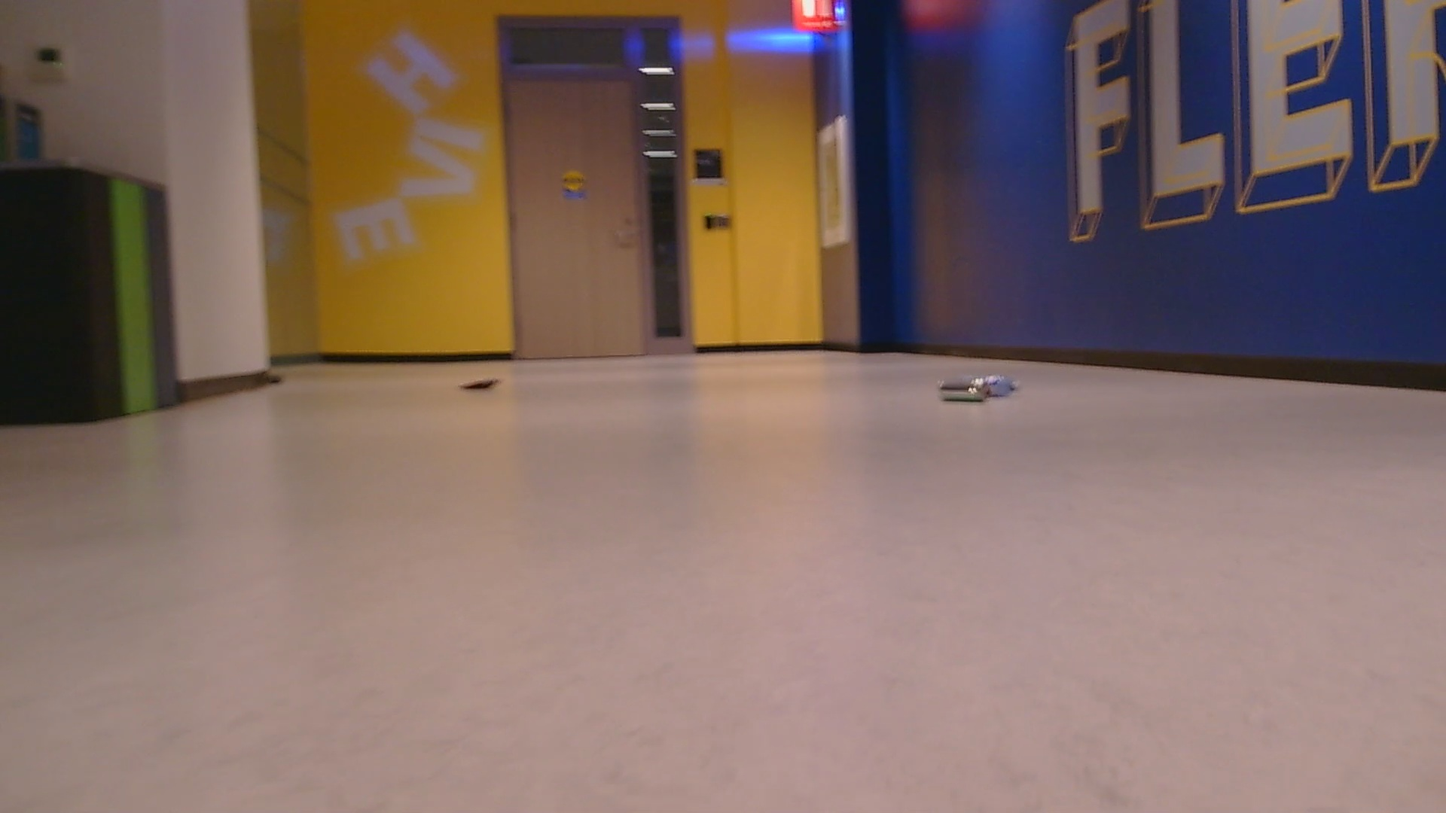can: (935, 374, 1021, 403), (447, 370, 506, 391)
